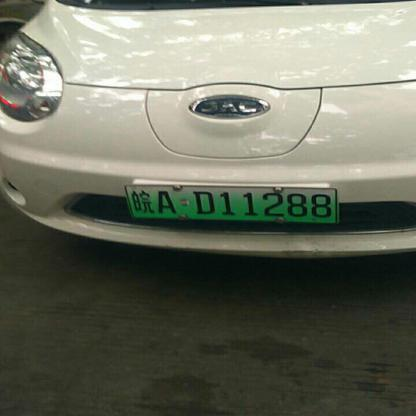lp: (124, 184, 336, 222)
